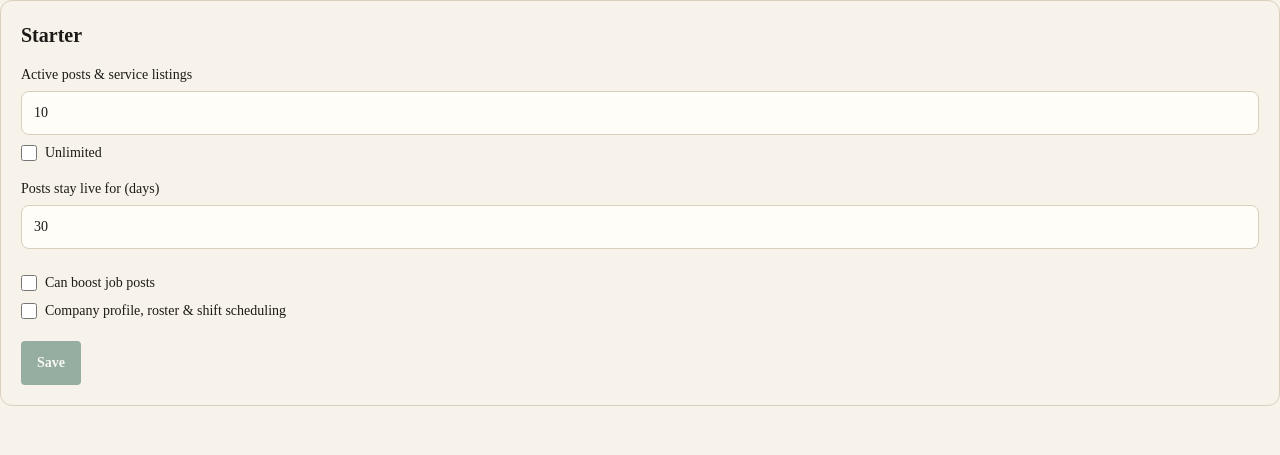
Scenario: PlanCard › blocks out-of-range values
Step 1. Replace the text in the number field labelled "Posts stay live for (days)" with "0" → (640, 227), box [21, 205, 1259, 249]
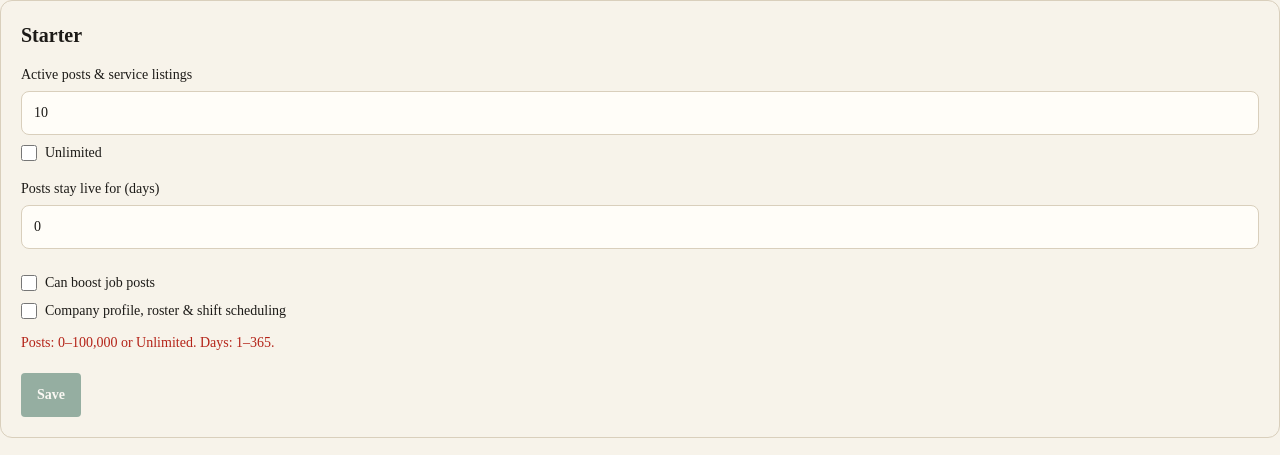
Expected: the button "Save" is disabled, [21, 373, 81, 417]
Now the message "Posts: 0–100,000 or Unlimited. Days: 1–365." is shown, box [21, 335, 275, 350]
